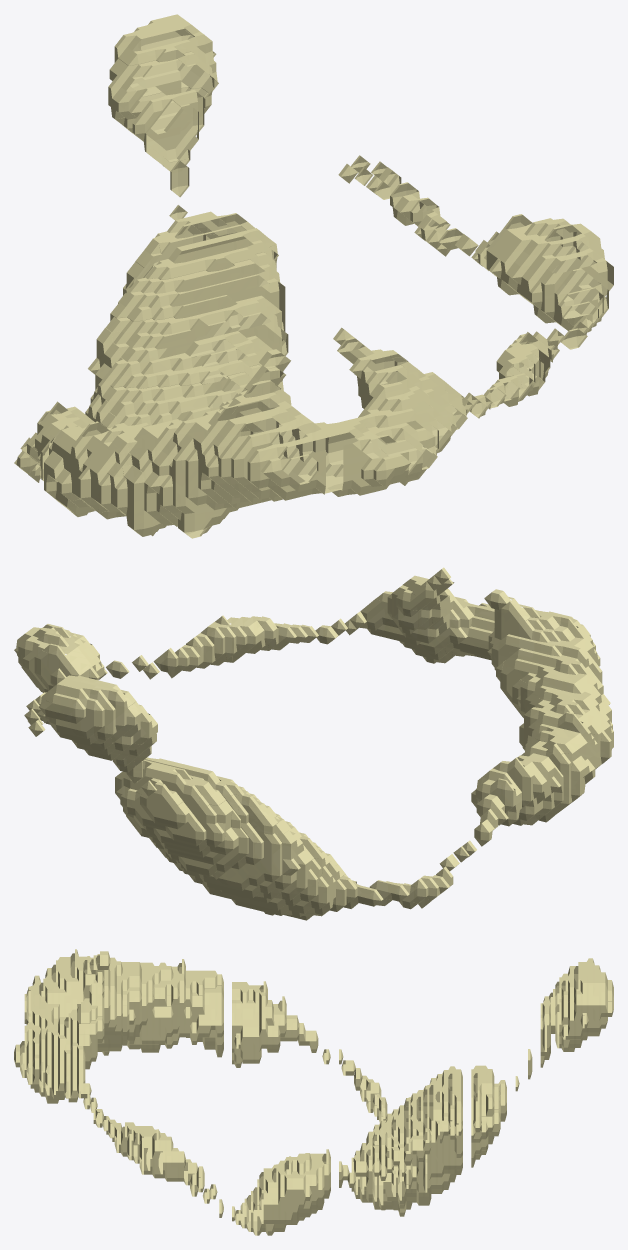
Rendered from SVV_OLQVR.gltf.
3 renders of one model, top to bottom at view 1: azimuth 30°, elevation 25°; view 2: azimuth 150°, elevation 25°; view 3: azimuth 270°, elevation 25°, orthographic. The views are drawn at different scales.
Parts seen in each view (by area): view 1: OLQVR; view 2: OLQVR; view 3: OLQVR.
Part boxes in pixels (x1,y1,x2,y2): OLQVR: [14, 14, 613, 538]; OLQVR: [14, 567, 613, 920]; OLQVR: [14, 949, 613, 1235].
Bounding box in the file's own units: 34838 × 17929 × 36628.
